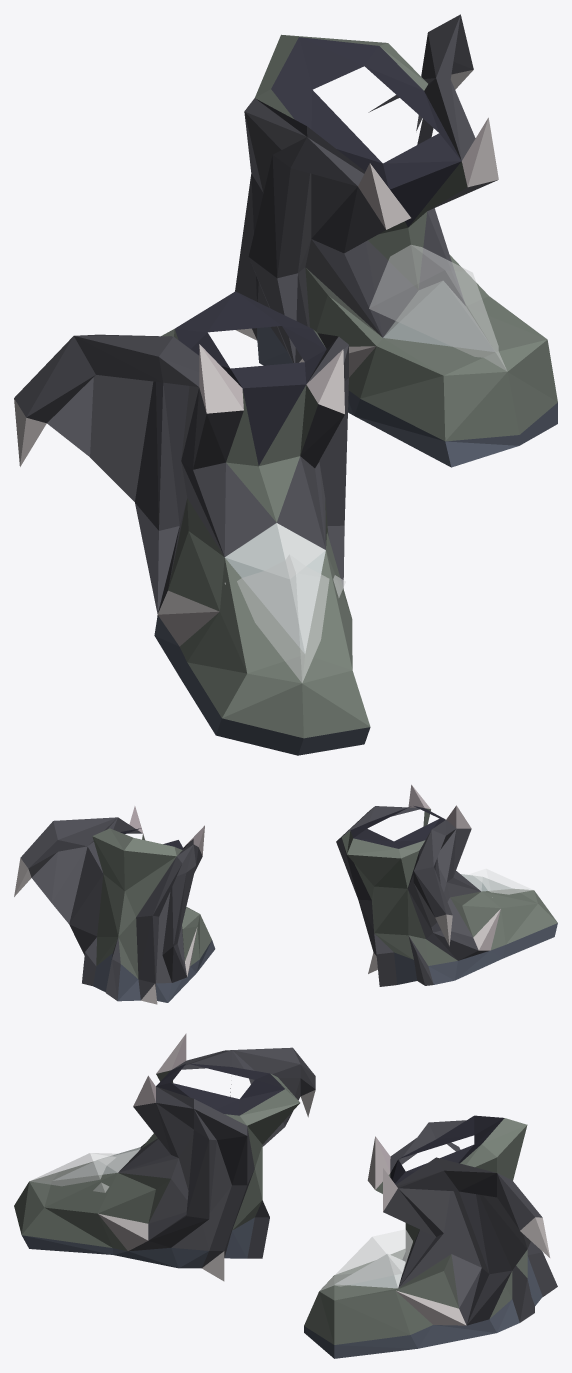
The model's file is player_avernic_treads__max_.glb.
The picture shows the model from 3 angles, top to bottom: view 1: azimuth 30°, elevation 25°; view 2: azimuth 150°, elevation 25°; view 3: azimuth 270°, elevation 25°; orthographic projection. The views are drawn at different scales.
Bounding box in the file's own units: 59.77 × 33.43 × 71.48.
2 materials, 2 textured.
